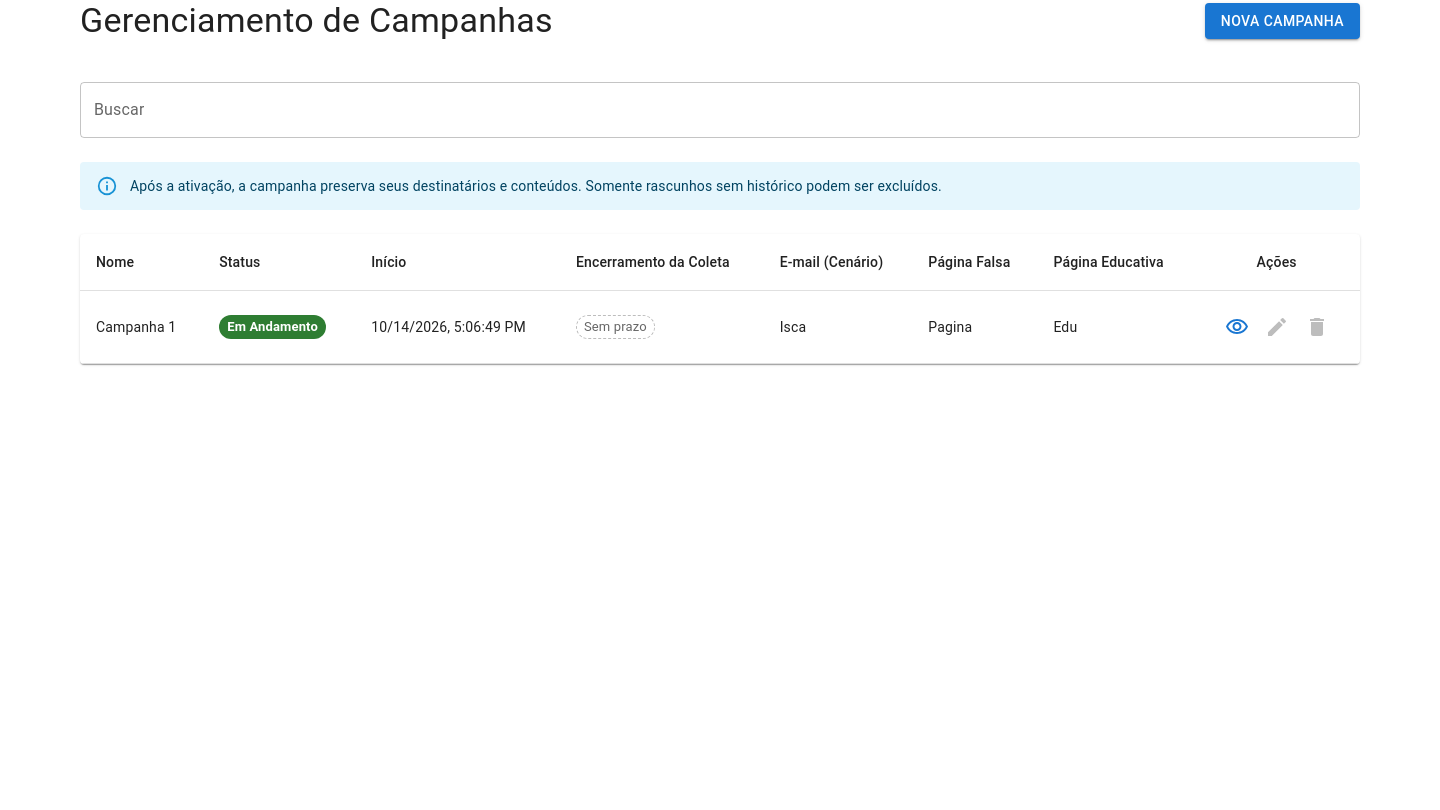
Campaigns — atualização reativa do status (polling inteligente) › abre detalhes somente leitura e exibe destinatários da ativação
Click the button named "Ver dados preservados de Campanha 1": coordinates (1237, 327) [1217, 307, 1257, 347]
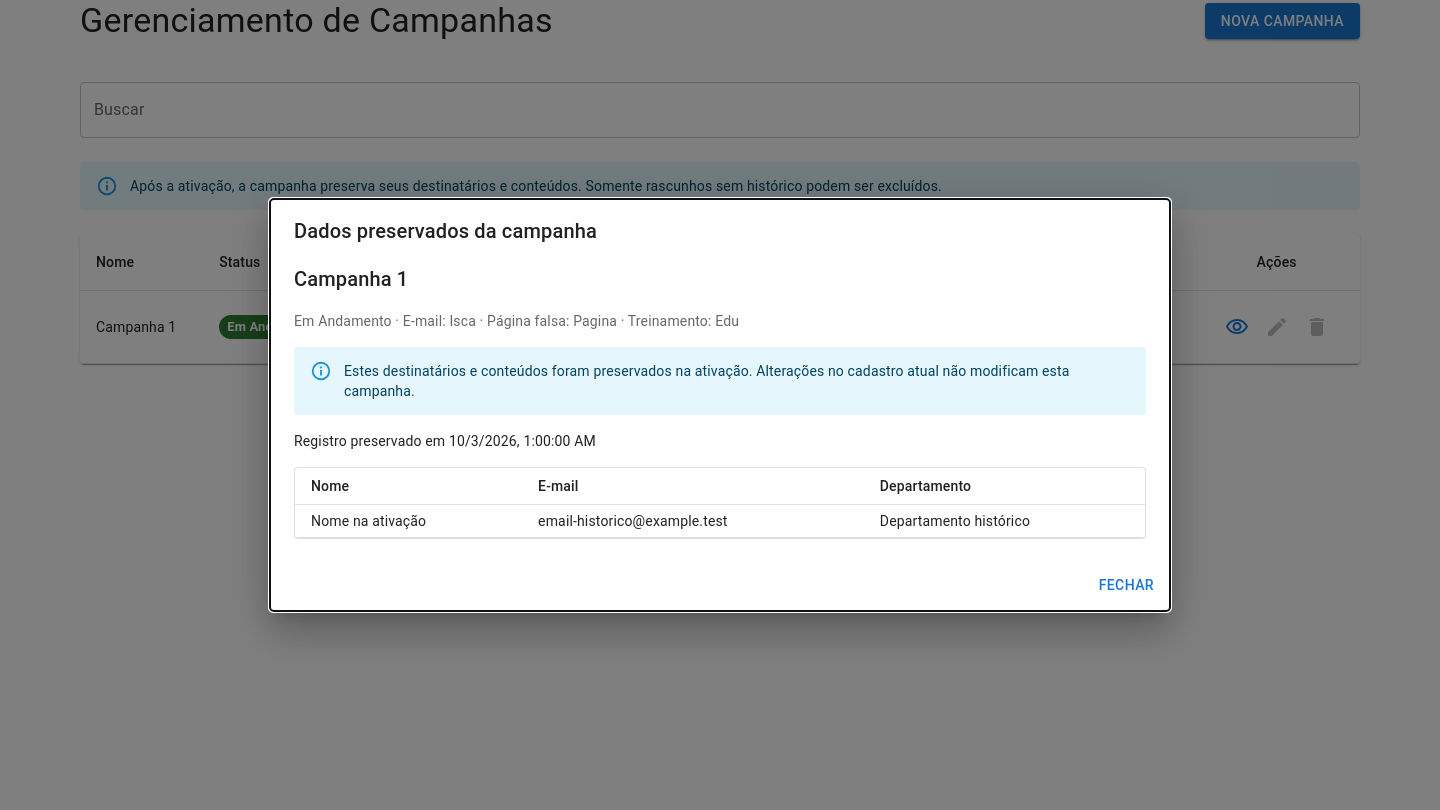
Expected: the dialog is shown, [270, 199, 1170, 611]
Expected: the text "email-historico@example.test" is shown, [522, 504, 864, 537]
Expected: the text "Departamento histórico" is shown, [864, 504, 1145, 537]
